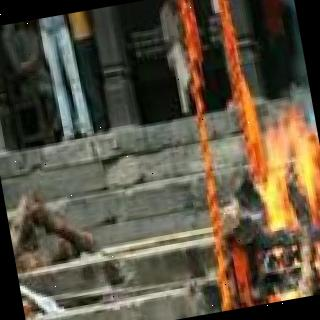fire: (245, 91, 320, 301)
